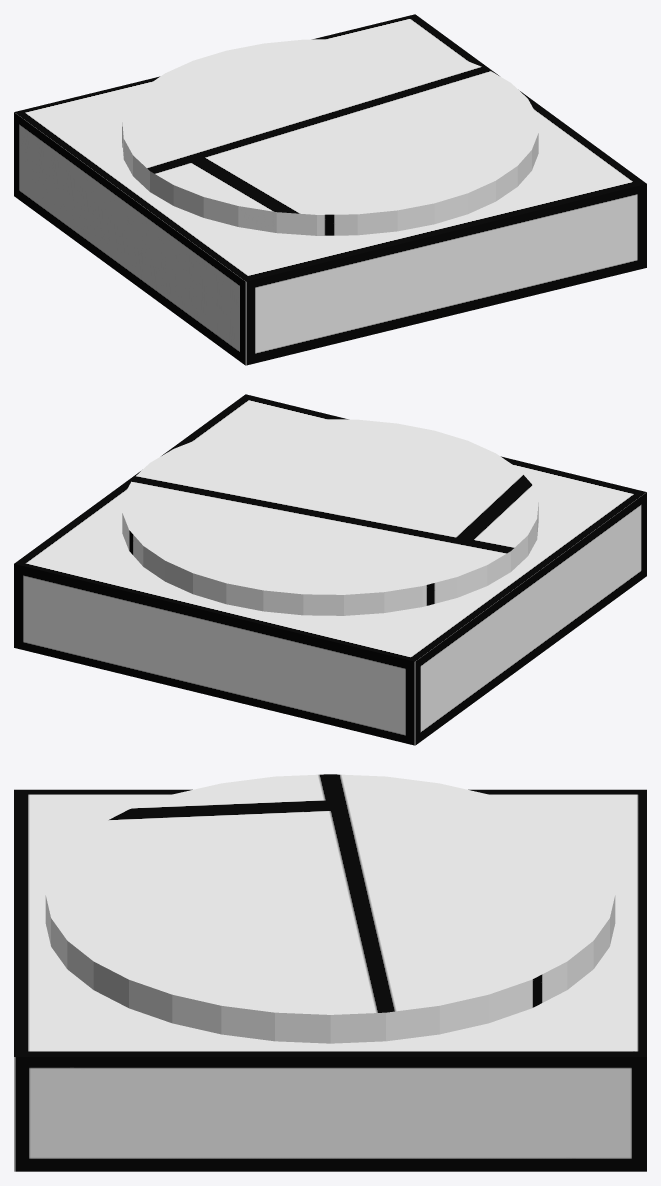
File: n_switch.mtl.obj
3 renders of one model, top to bottom at view 1: azimuth 30°, elevation 25°; view 2: azimuth 150°, elevation 25°; view 3: azimuth 270°, elevation 25°, orthographic. The views are drawn at different scales.
Visible parts, largest first — view 1: Cylinder; view 2: Cylinder; view 3: Cylinder.
Part boxes in pixels (x1,y1,x2,y2): Cylinder: (14,14,646,365); Cylinder: (14,394,646,745); Cylinder: (14,774,646,1171).
Size of the model in its own units: 2 by 0.5 by 2.
